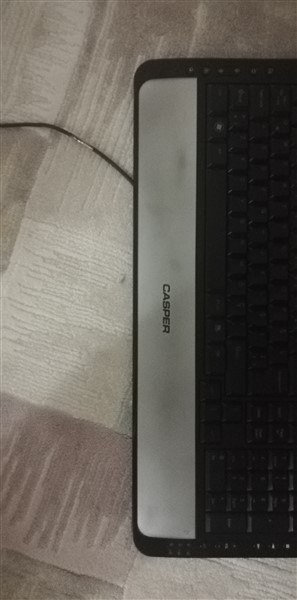klavye: (131, 56, 296, 564)
